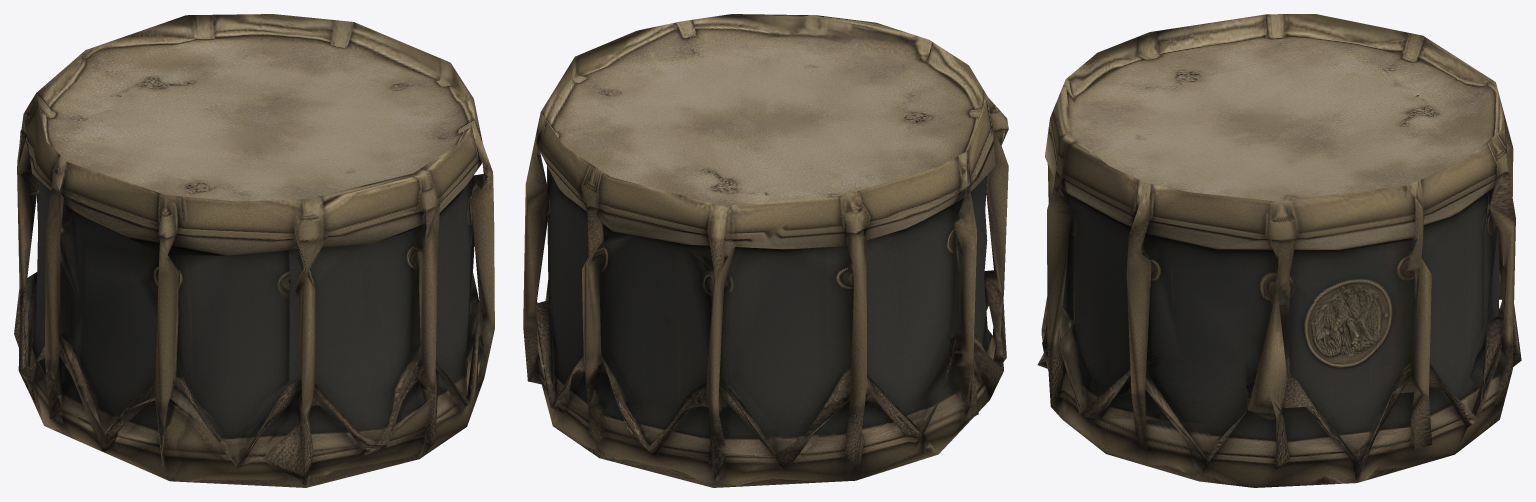
File: prop_drum.glb
The picture shows the model from 3 angles, left to right: view 1: azimuth 30°, elevation 25°; view 2: azimuth 150°, elevation 25°; view 3: azimuth 270°, elevation 25°; orthographic projection.
Parts seen in each view (by area): view 1: tripo_node_f4a2b0be-273f-4bad-8f81-8c2cdb858559; view 2: tripo_node_f4a2b0be-273f-4bad-8f81-8c2cdb858559; view 3: tripo_node_f4a2b0be-273f-4bad-8f81-8c2cdb858559.
Part boxes in pixels (left/top/right/bottom): tripo_node_f4a2b0be-273f-4bad-8f81-8c2cdb858559: left=14, top=14, right=494, bottom=487; tripo_node_f4a2b0be-273f-4bad-8f81-8c2cdb858559: left=523, top=14, right=1008, bottom=487; tripo_node_f4a2b0be-273f-4bad-8f81-8c2cdb858559: left=1037, top=14, right=1521, bottom=487.
Size of the model in its own units: 0.9668 by 0.6328 by 0.9663.
Materials: 1 (1 with a texture image).
